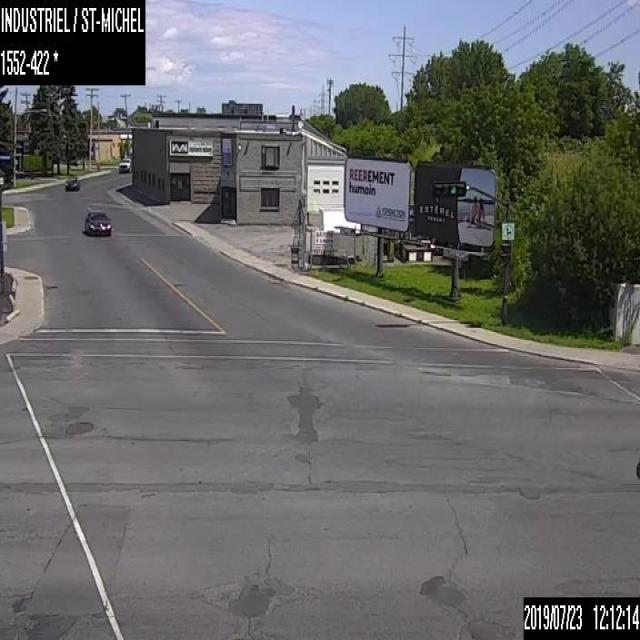vehicle: (83, 207, 111, 236), (117, 156, 132, 173), (63, 177, 80, 190)
